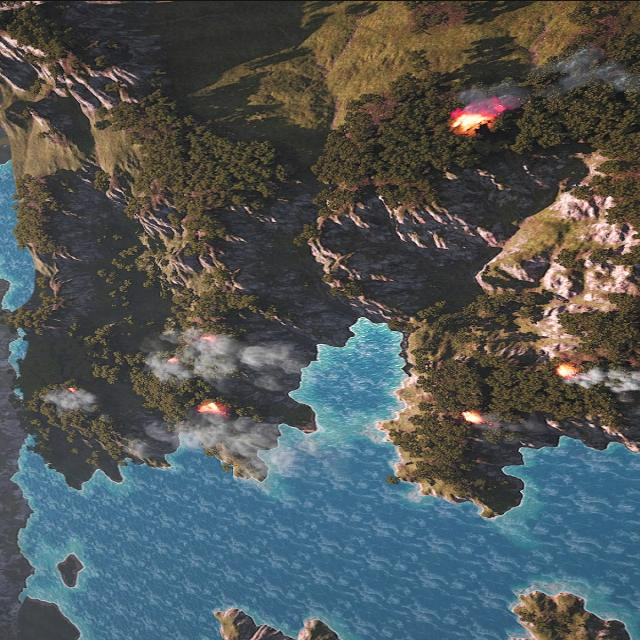fire: (450, 109, 492, 131), (200, 400, 232, 412), (557, 362, 577, 378), (462, 410, 482, 423), (70, 386, 76, 392)
smoke: (449, 44, 634, 112), (132, 328, 306, 388), (131, 411, 286, 466), (566, 370, 640, 391), (44, 386, 98, 412)
